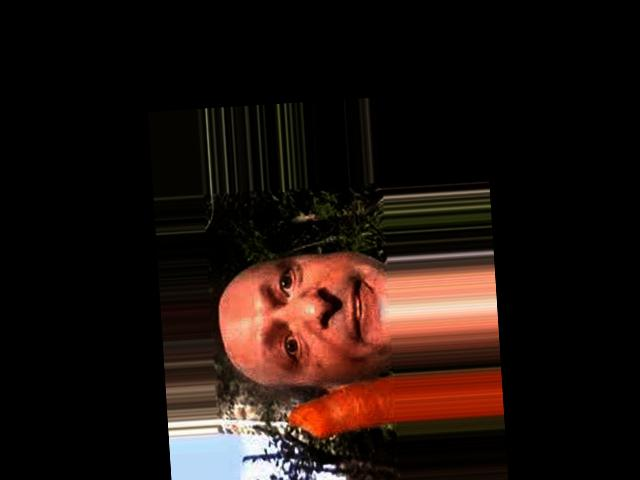carrot: (282, 371, 399, 441)
